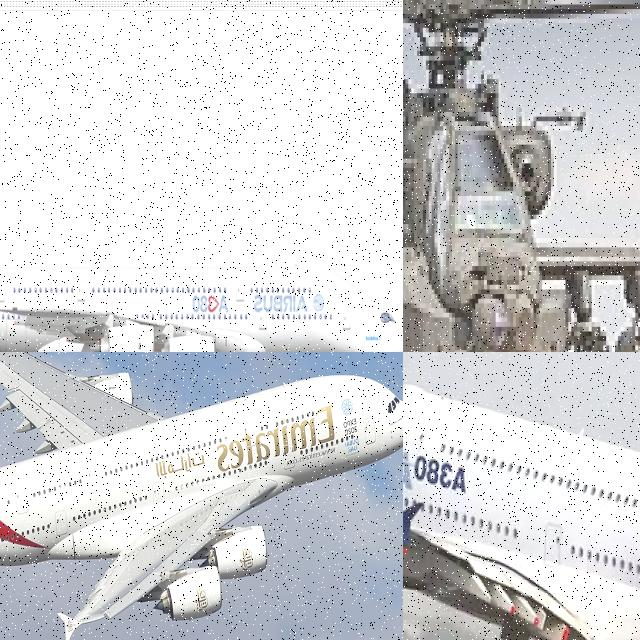A380: (0, 352, 403, 640), (0, 127, 403, 352), (403, 357, 640, 640)
Apache: (403, 0, 640, 352)
